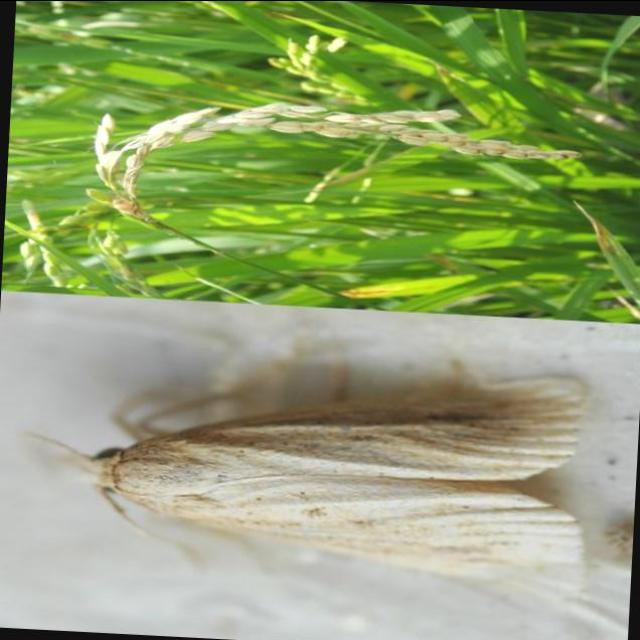stem borer: (42, 377, 584, 574)
